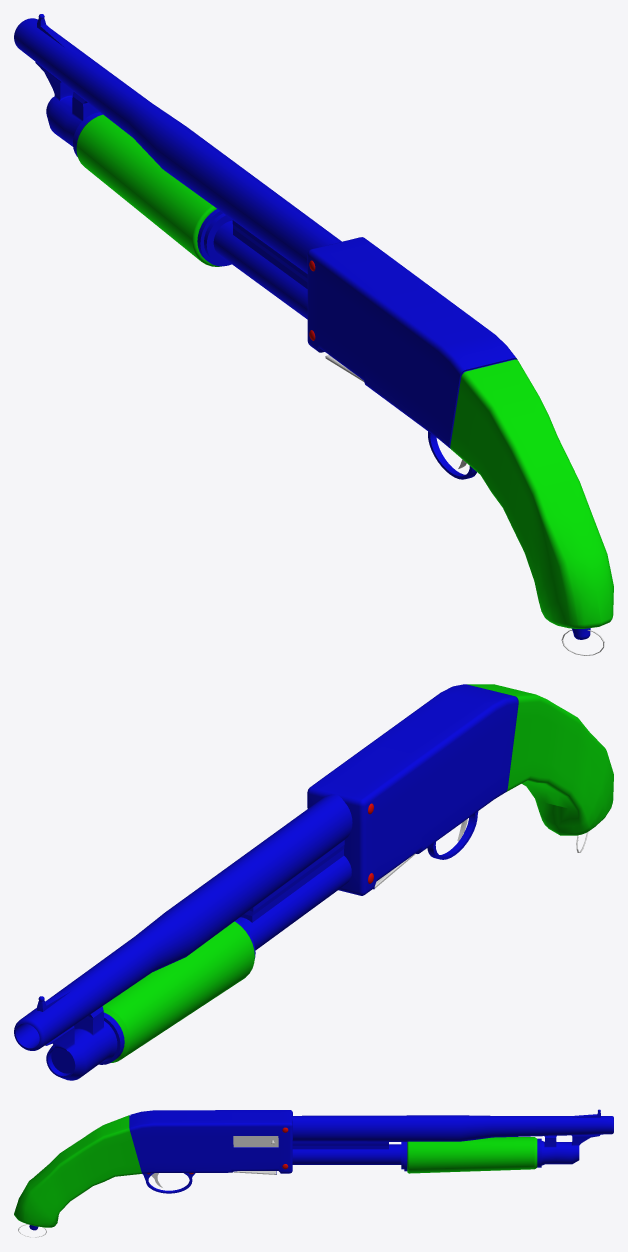
The model's file is Shotgun.fbx.
The picture shows the model from 3 angles, top to bottom: view 1: azimuth 30°, elevation 25°; view 2: azimuth 150°, elevation 25°; view 3: azimuth 270°, elevation 25°; orthographic projection. The views are drawn at different scales.
Visible parts, largest first — view 1: Shotgun, Pump; view 2: Shotgun, Pump; view 3: Shotgun, Pump, Bolt.
Boxes of the visible parts, <box> form: Shotgun: <box>14,14,613,639</box>; Pump: <box>73,112,232,266</box>; Shotgun: <box>14,684,613,1080</box>; Pump: <box>99,920,255,1064</box>; Shotgun: <box>14,1109,613,1230</box>; Pump: <box>401,1137,541,1173</box>; Bolt: <box>233,1136,278,1147</box>.
Size of the model in its own units: 33.28 by 118 by 498.
